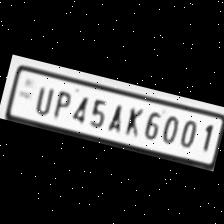0: (174, 113, 202, 148), (157, 109, 181, 144)
1: (194, 116, 218, 153)
4: (65, 88, 92, 123)
5: (83, 92, 109, 128)
6: (137, 104, 164, 140)
A: (104, 98, 128, 132)
K: (119, 100, 143, 136)
P: (47, 83, 73, 119)
U: (28, 78, 55, 114)
